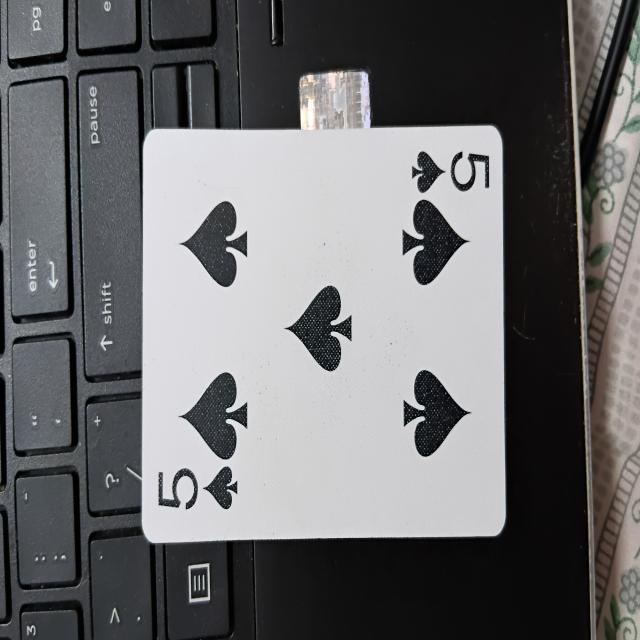5S: (138, 127, 508, 539)
